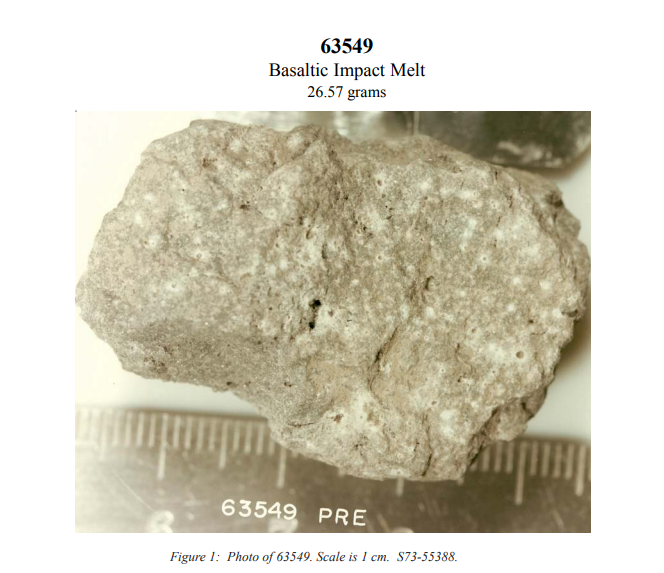Basalt: (110, 124, 588, 474)
